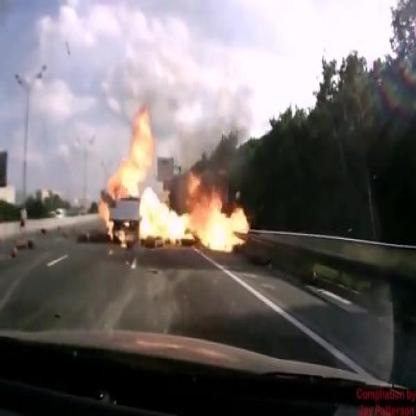fire: (94, 96, 250, 262)
